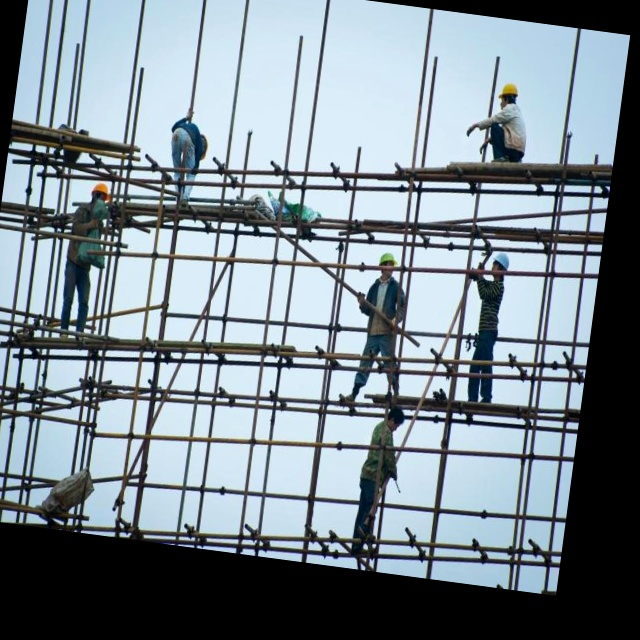Con_Casco: (497, 83, 519, 112), (490, 250, 512, 278), (377, 252, 397, 279)
